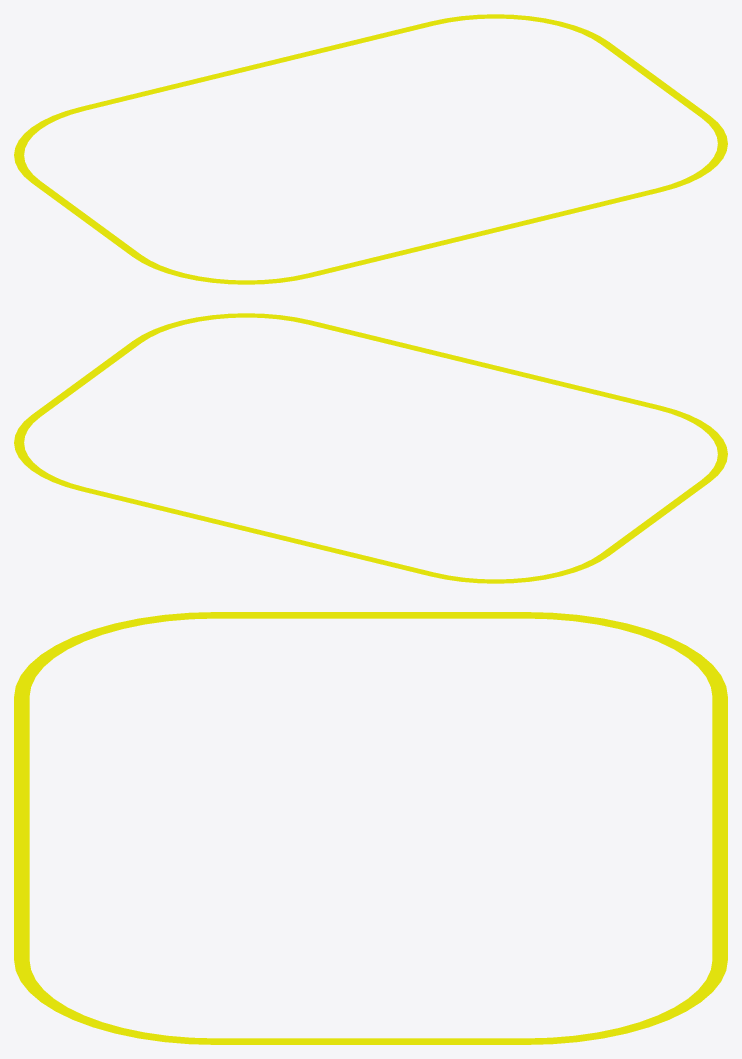
Rendered from circle_road_middle.dae.
The picture shows the model from 3 angles, top to bottom: view 1: azimuth 30°, elevation 25°; view 2: azimuth 150°, elevation 25°; view 3: azimuth 270°, elevation 25°; orthographic projection. The views are drawn at different scales.
Parts seen in each view (by area): view 1: SketchUp; view 2: SketchUp; view 3: SketchUp.
Boxes of the visible parts, left/top/right/bottom form: SketchUp: left=14, top=14, right=727, bottom=284; SketchUp: left=14, top=313, right=727, bottom=583; SketchUp: left=14, top=612, right=727, bottom=1044.
Bounding box in the file's own units: 156 × 109 × 0.
